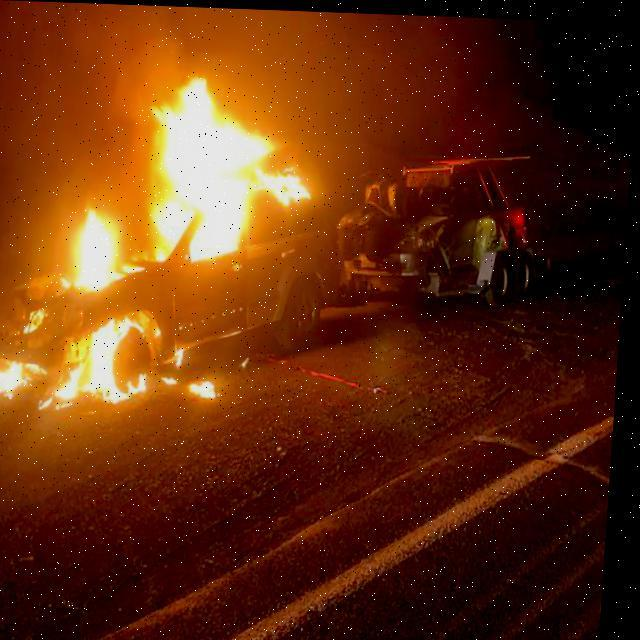Fire: (156, 72, 336, 266), (46, 318, 165, 414), (65, 213, 148, 293), (0, 356, 32, 402), (190, 376, 222, 396), (176, 339, 194, 368)
